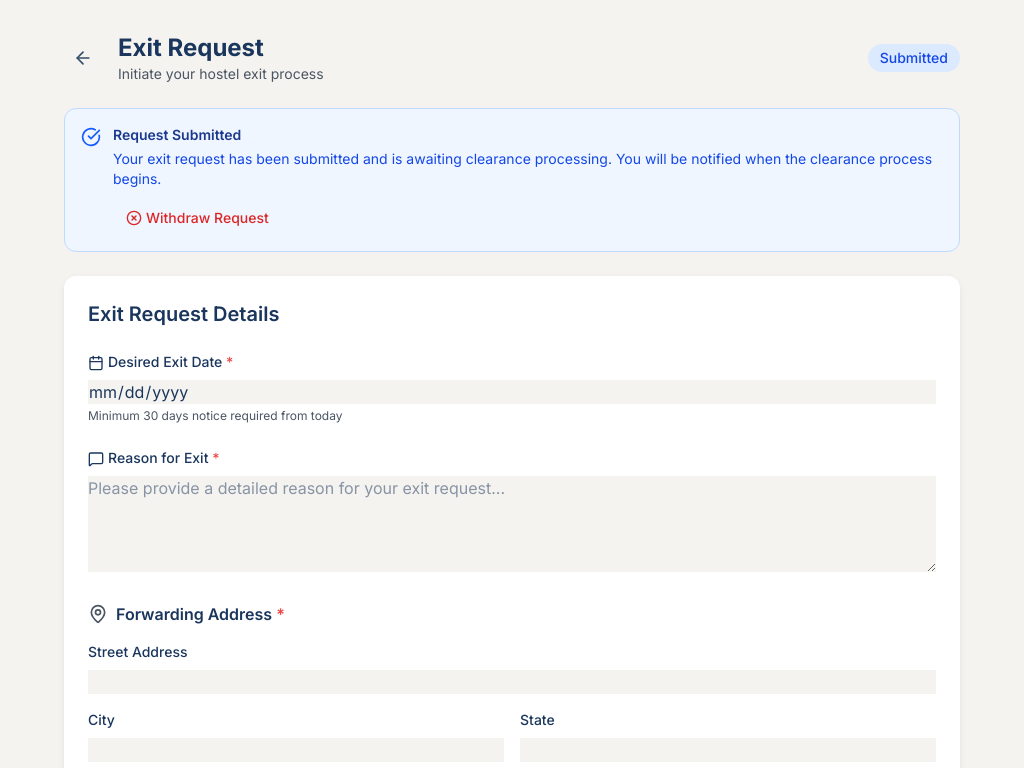
Scenario: Task 20.1 - Student Exit Request Flow › Student Exit Page - Full Flow › should show confirmation dialog before withdrawal
This screenshot has width=1024, height=768.
What coordinates should you click on to do the following:
click the button "Withdraw Request"
I would click on:
 (197, 218)
Its box is x1=113 y1=201 x2=282 y2=235.
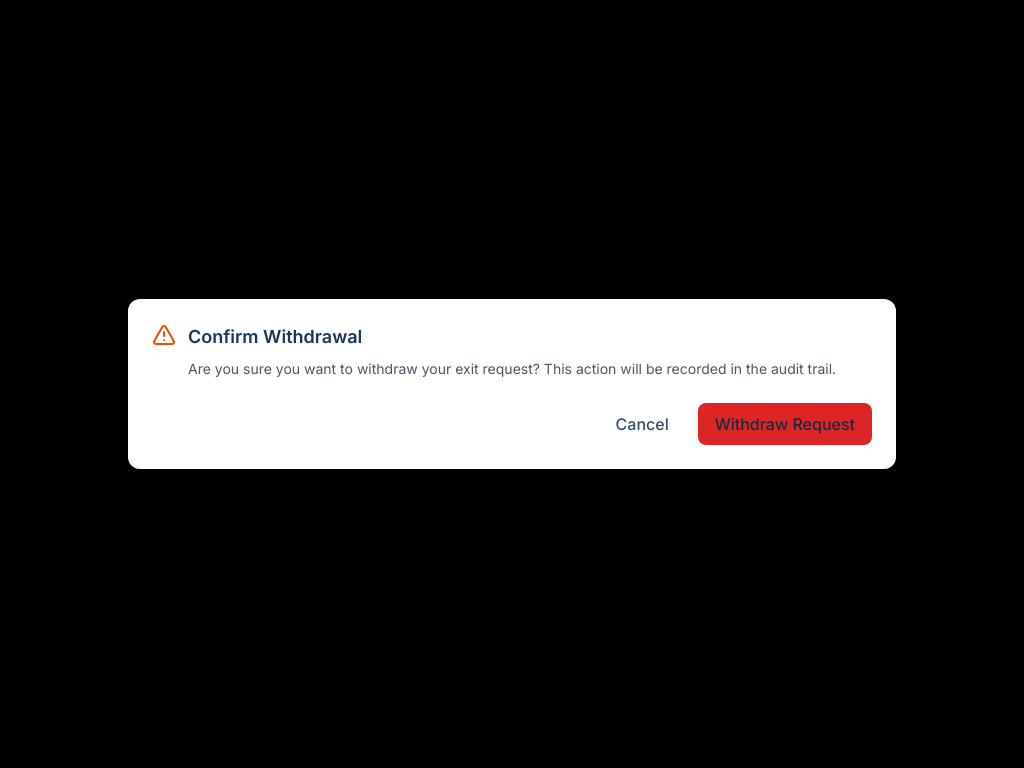
Check: the heading "Confirm Withdrawal" is shown, box x1=188 y1=326 x2=362 y2=347
